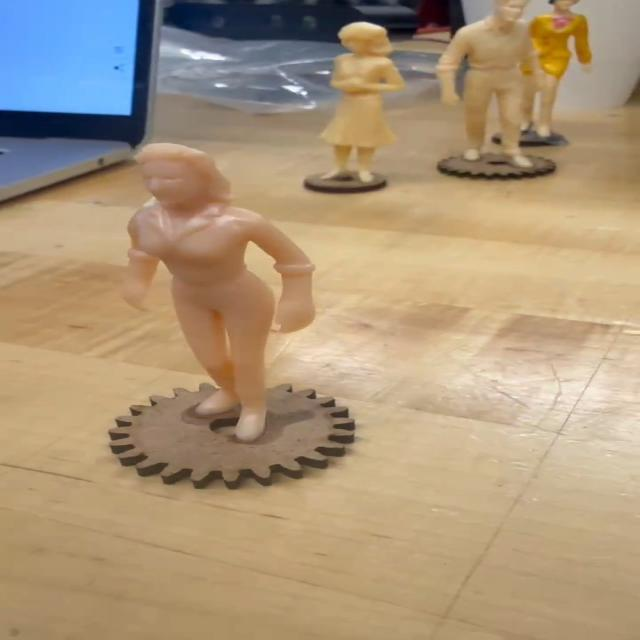Unauthorized: (119, 144, 328, 446)
